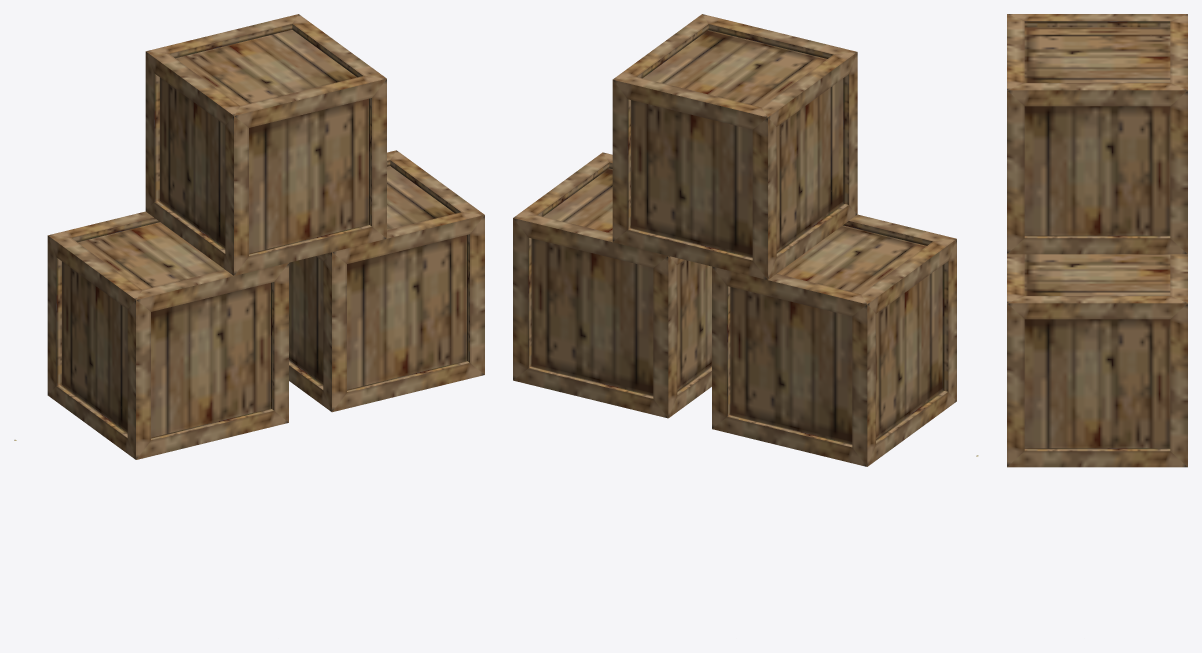
Rendered from carga.glb.
The picture shows the model from 3 angles, left to right: view 1: azimuth 30°, elevation 25°; view 2: azimuth 150°, elevation 25°; view 3: azimuth 270°, elevation 25°; orthographic projection. The views are drawn at different scales.
Parts seen in each view (by area): view 1: crates; view 2: crates; view 3: crates.
Boxes of the visible parts, <box> form: crates: <box>47,14,484,459</box>; crates: <box>513,14,956,466</box>; crates: <box>1007,14,1187,467</box>.
Bounding box in the file's own units: 3.43 × 4.45 × 1.25.
Materials: 5 (5 with a texture image).
